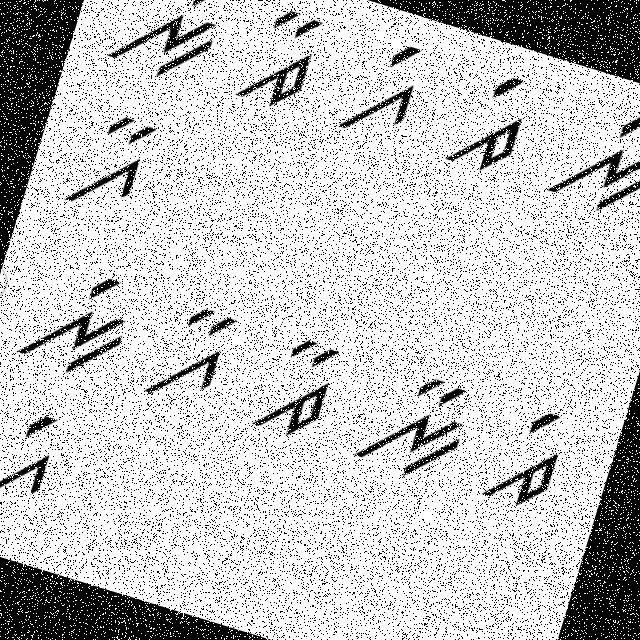gan: (134, 283, 245, 417), (58, 100, 168, 222)
gang: (324, 24, 434, 150), (0, 386, 73, 522)
ngan: (348, 352, 482, 490), (99, 0, 237, 94)
ngang: (6, 244, 147, 396), (539, 91, 639, 235)
tan: (242, 320, 349, 448), (227, 0, 334, 121)
tang: (441, 62, 548, 186), (476, 394, 576, 516)
